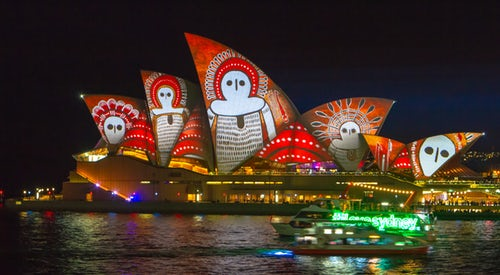opera house: (38, 13, 492, 221)
